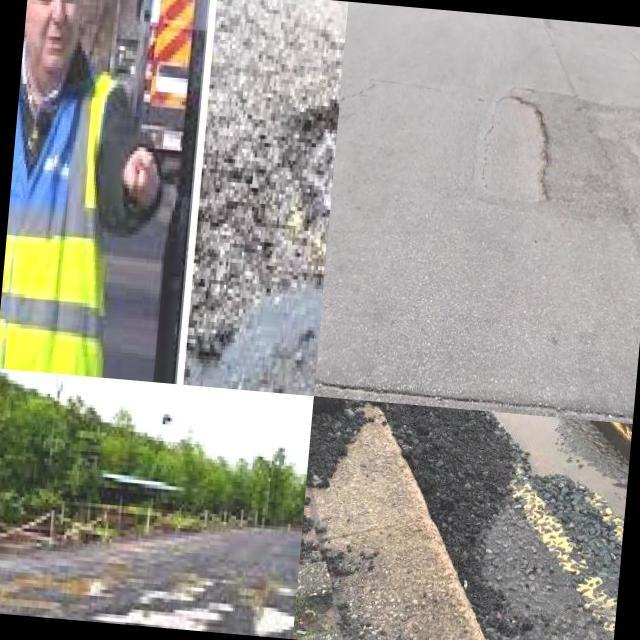Pothole: (53, 590, 229, 631), (0, 549, 129, 597), (254, 607, 295, 638)
